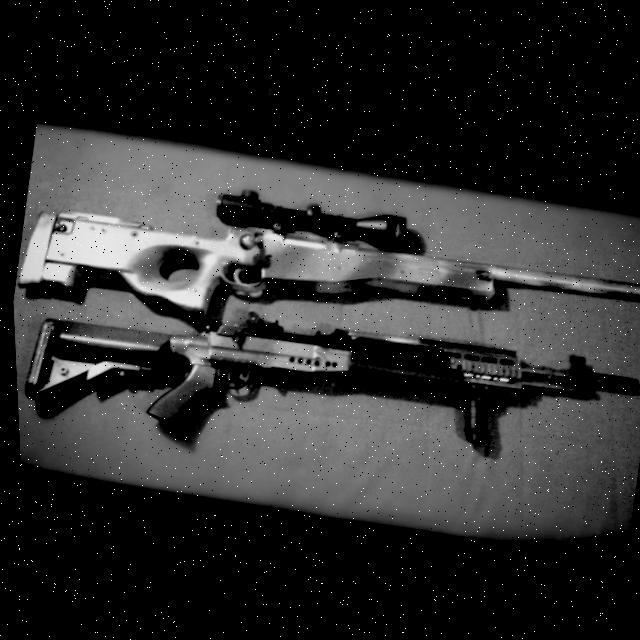firearm: (7, 147, 640, 400), (11, 258, 640, 509)
